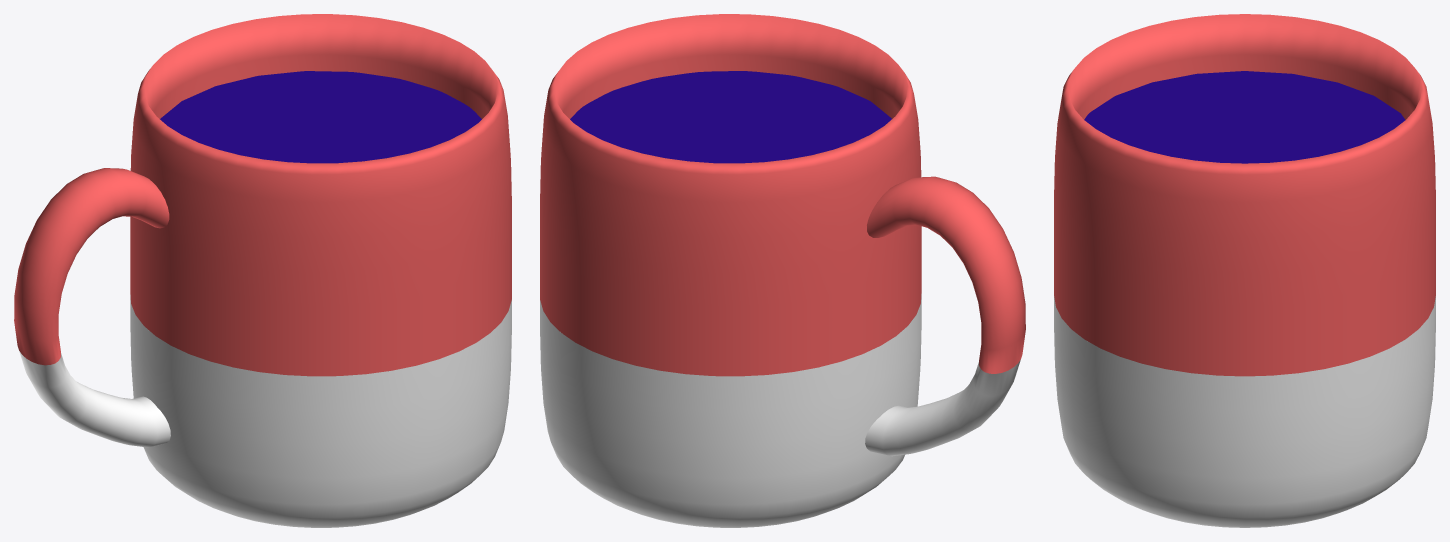
The model's file is mug.glb.
3 renders of one model, left to right at view 1: azimuth 30°, elevation 25°; view 2: azimuth 150°, elevation 25°; view 3: azimuth 270°, elevation 25°, orthographic.
Parts seen in each view (by area): view 1: mug.002; view 2: mug.002; view 3: mug.002.
Part boxes in pixels (bbox=[...]): mug.002: bbox=[14, 14, 511, 527]; mug.002: bbox=[540, 14, 1025, 527]; mug.002: bbox=[1054, 14, 1435, 527].
Size of the model in its own units: 0.8672 by 0.697 by 0.6268.
